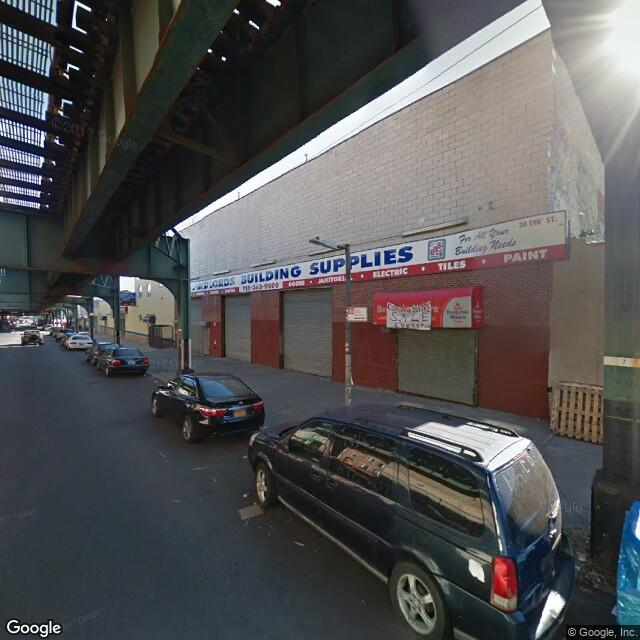litter: (242, 491, 244, 494)
